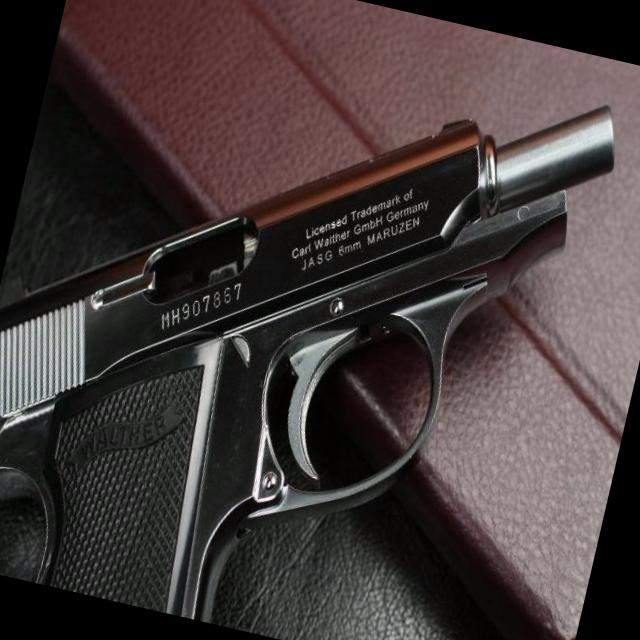Gun: (0, 106, 615, 624)
